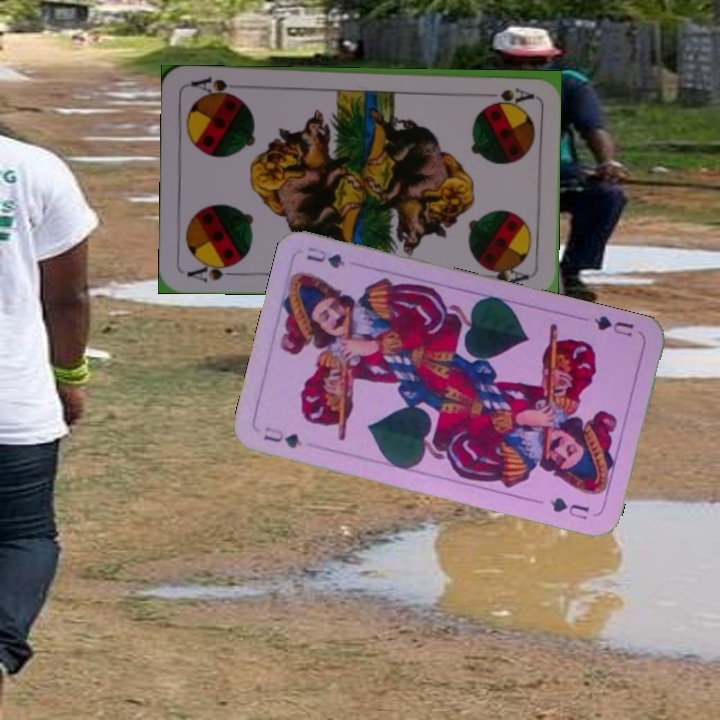GU: (259, 422, 305, 451), (590, 311, 636, 339)
SA: (183, 258, 242, 285), (476, 84, 535, 104)
